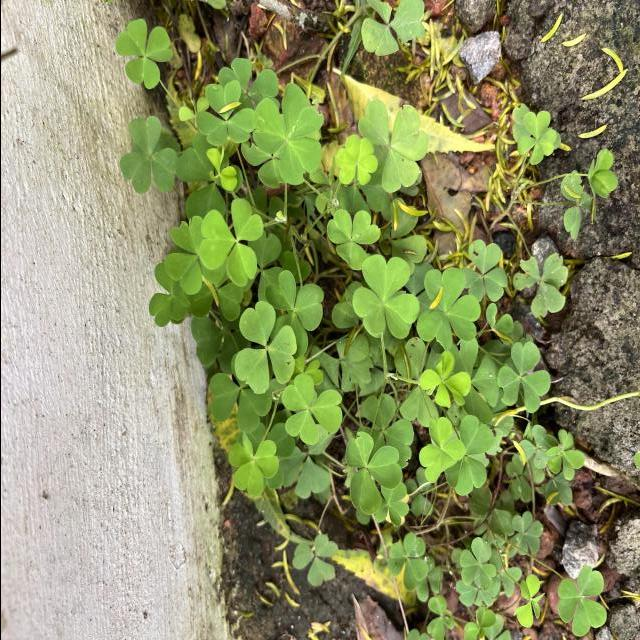Oxalis corniculata: (252, 82, 324, 186), (356, 98, 427, 194), (232, 300, 298, 397), (350, 253, 420, 340), (197, 196, 263, 288), (415, 267, 481, 352), (344, 430, 402, 516), (118, 115, 178, 194), (280, 372, 342, 446), (495, 338, 550, 414), (112, 18, 170, 90), (193, 80, 254, 148), (556, 565, 607, 637), (226, 431, 278, 497), (325, 208, 380, 270), (417, 416, 465, 484), (418, 351, 470, 409), (542, 428, 586, 482), (333, 134, 377, 186), (516, 110, 556, 166), (458, 536, 496, 592)
